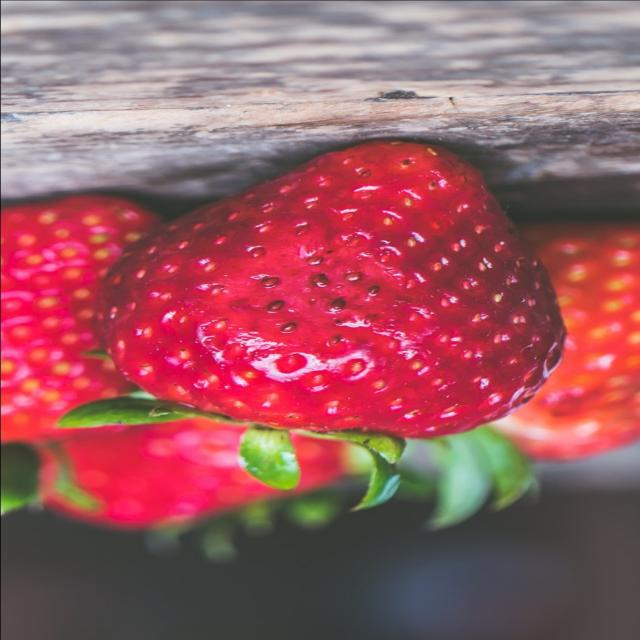strawberry: (89, 125, 602, 512)
